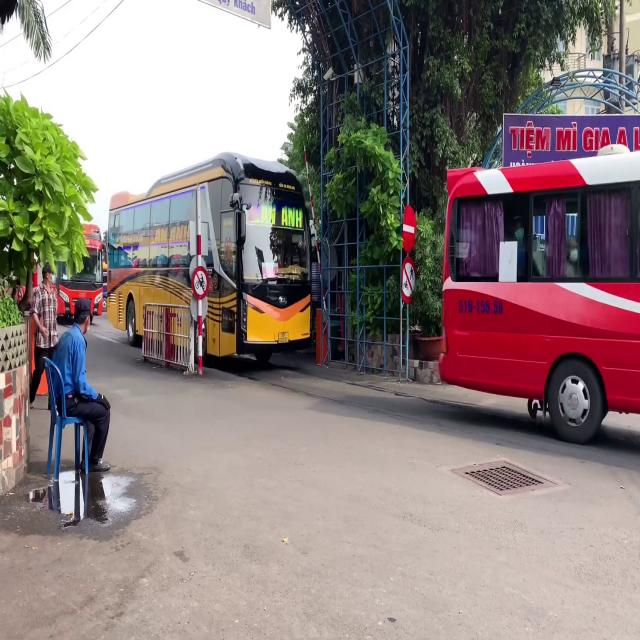bien_vang: (278, 331, 291, 344)
